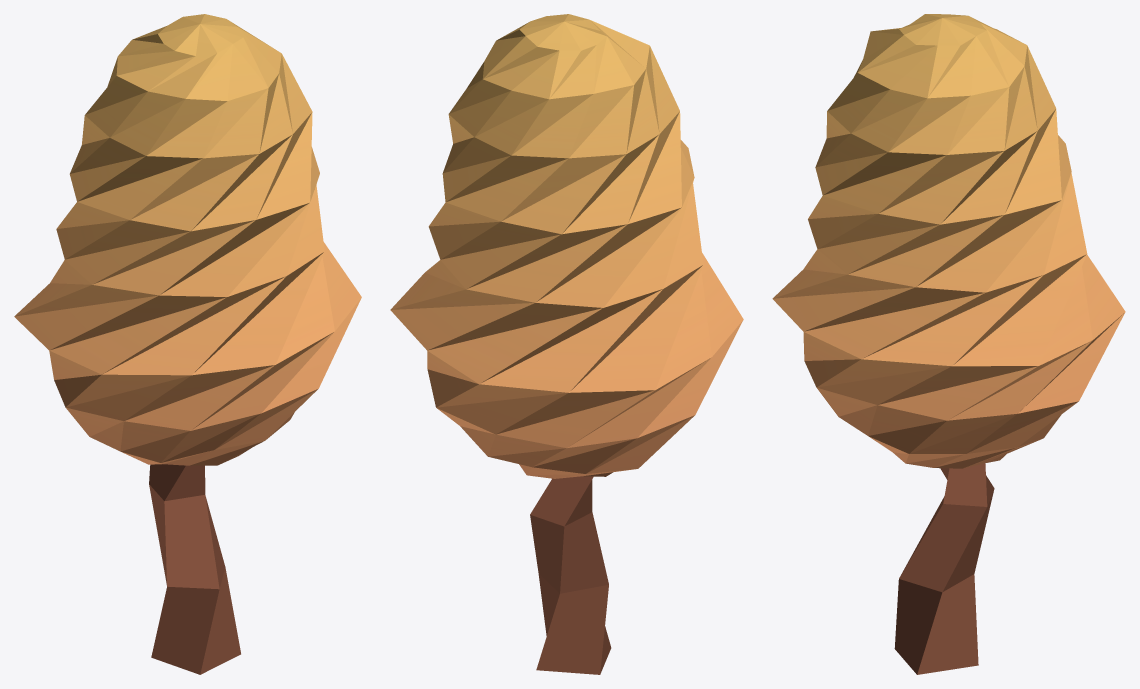
File: Tree_14_gradient_yellow_pal.fbx
The picture shows the model from 3 angles, left to right: view 1: azimuth 30°, elevation 25°; view 2: azimuth 150°, elevation 25°; view 3: azimuth 270°, elevation 25°; orthographic projection. The views are drawn at different scales.
Visible parts, largest first — view 1: Tree_14_gradient_yellow_pal; view 2: Tree_14_gradient_yellow_pal; view 3: Tree_14_gradient_yellow_pal.
Boxes of the visible parts, box(x1,y1,x2,y2) form: Tree_14_gradient_yellow_pal: box(14, 14, 361, 674); Tree_14_gradient_yellow_pal: box(390, 14, 743, 674); Tree_14_gradient_yellow_pal: box(772, 14, 1125, 674).
Bounding box in the file's own units: 104 × 223 × 111.
